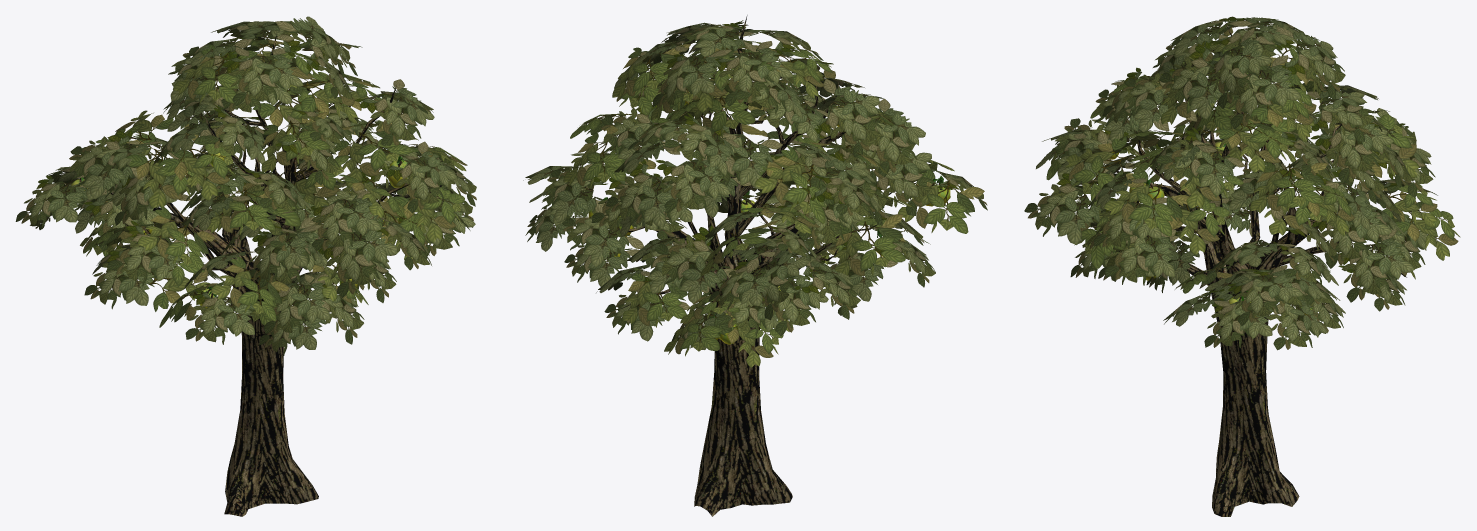
The model's file is fable-game-tree.glb.
The picture shows the model from 3 angles, left to right: view 1: azimuth 30°, elevation 25°; view 2: azimuth 150°, elevation 25°; view 3: azimuth 270°, elevation 25°; orthographic projection.
Visible parts, largest first — view 1: MESH_APPLE_TREE_01_0; view 2: MESH_APPLE_TREE_01_0; view 3: MESH_APPLE_TREE_01_0.
Part boxes in pixels (left/top/right/bottom): MESH_APPLE_TREE_01_0: left=15, top=16, right=476, bottom=516; MESH_APPLE_TREE_01_0: left=523, top=15, right=987, bottom=516; MESH_APPLE_TREE_01_0: left=1024, top=16, right=1460, bottom=516.
Size of the model in its own units: 4.58 by 5.27 by 4.38.
Materials: 4 (4 with a texture image).
